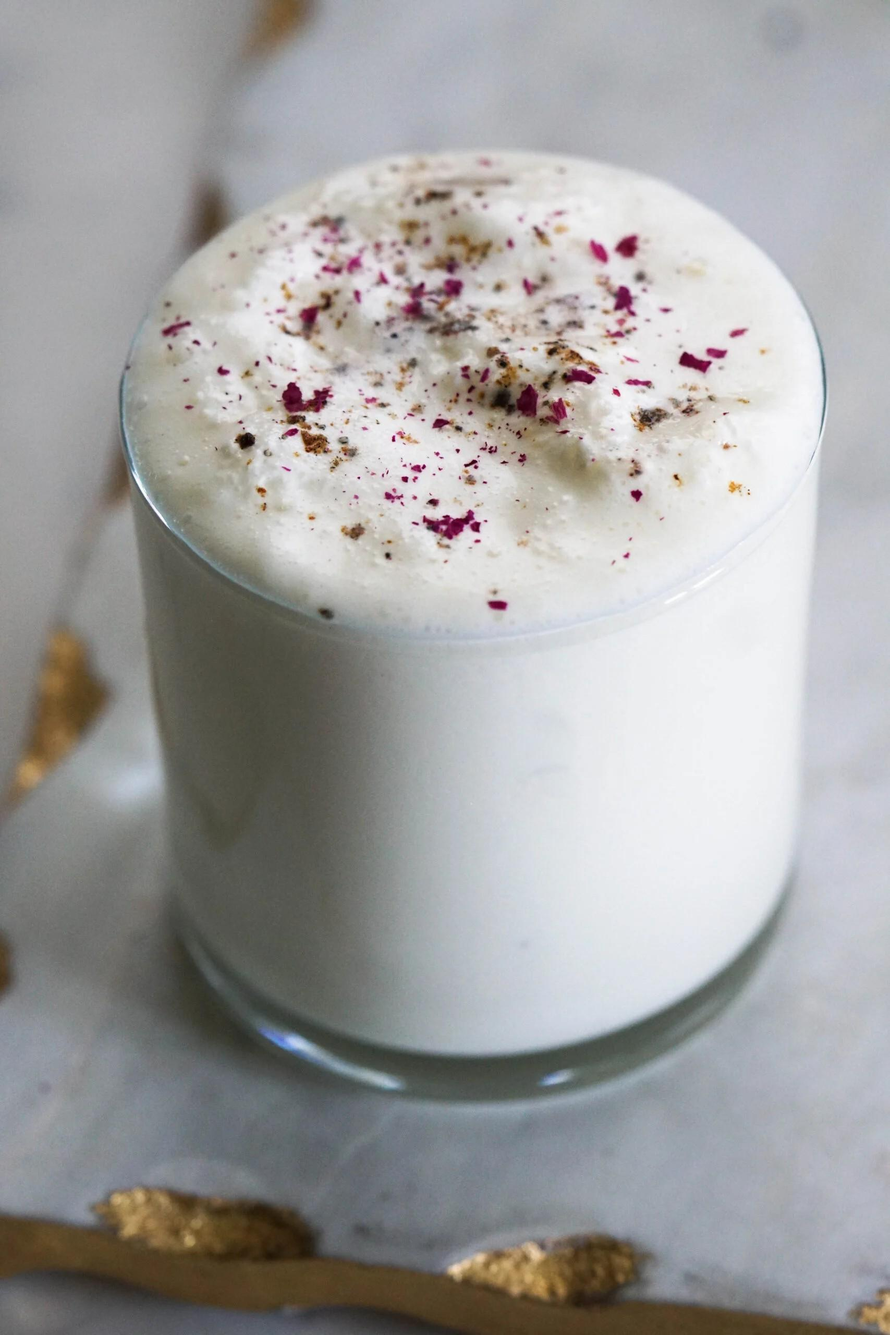Lassi: (122, 149, 829, 1055)
